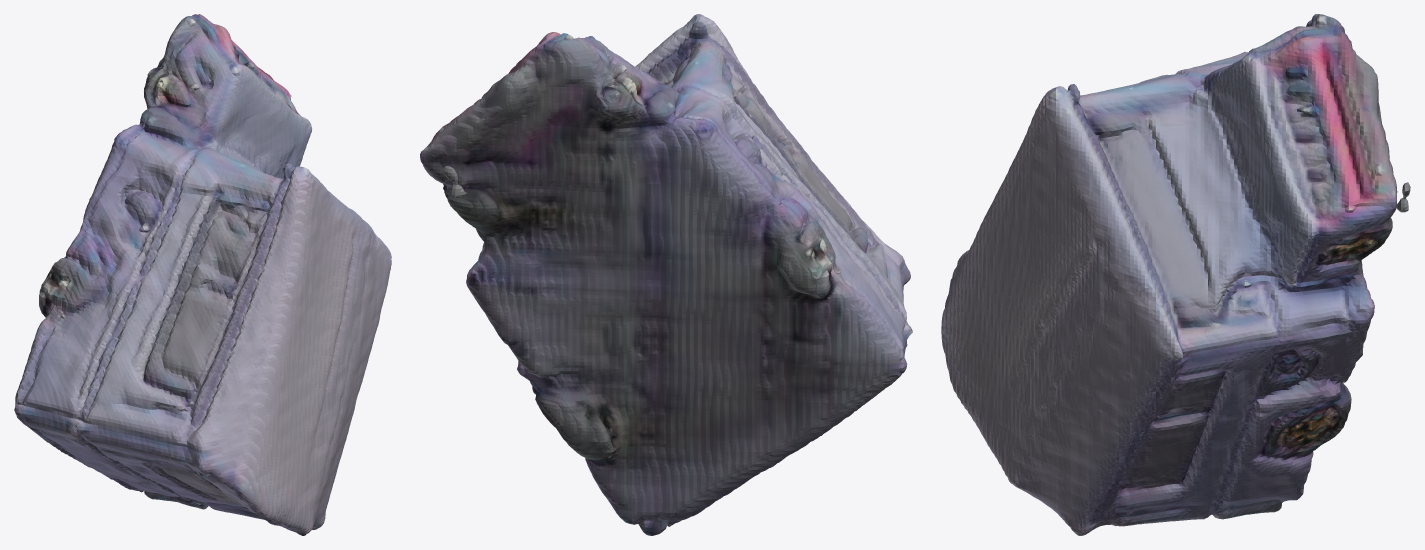
3 views of the same model, side by side, from view 1: azimuth 30°, elevation 25°; view 2: azimuth 150°, elevation 25°; view 3: azimuth 270°, elevation 25° (orthographic). The views are drawn at different scales.
Visible parts, largest first — view 1: world; view 2: world; view 3: world.
Part boxes in pixels (x1,y1,x2,y2): world: [14, 14, 391, 535]; world: [420, 14, 912, 535]; world: [941, 14, 1410, 535].
Size of the model in its own units: 0.9258 by 1.06 by 0.8633.
